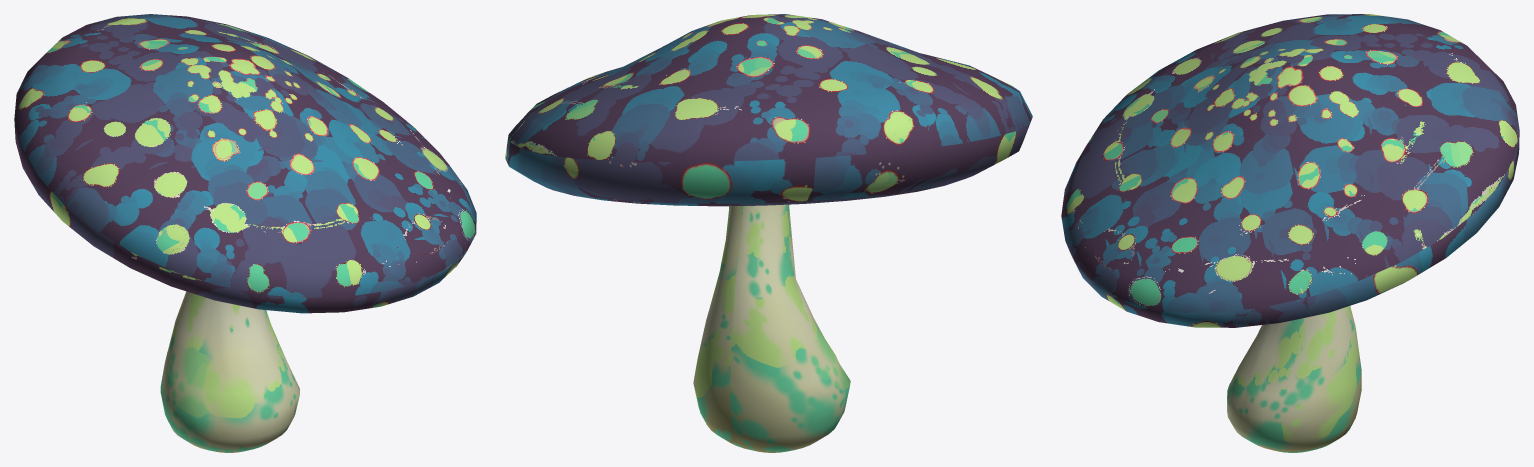
Rendered from FBX_Mushroom2.fbx.
3 renders of one model, left to right at view 1: azimuth 30°, elevation 25°; view 2: azimuth 150°, elevation 25°; view 3: azimuth 270°, elevation 25°, orthographic. The views are drawn at different scales.
Parts seen in each view (by area): view 1: mushroom 1; view 2: mushroom 1; view 3: mushroom 1.
Boxes of the visible parts, box(x1,y1,x2,y2) form: mushroom 1: box(14, 14, 476, 452); mushroom 1: box(505, 14, 1032, 452); mushroom 1: box(1061, 14, 1519, 452).
Bounding box in the file's own units: 292 × 268 × 291.
